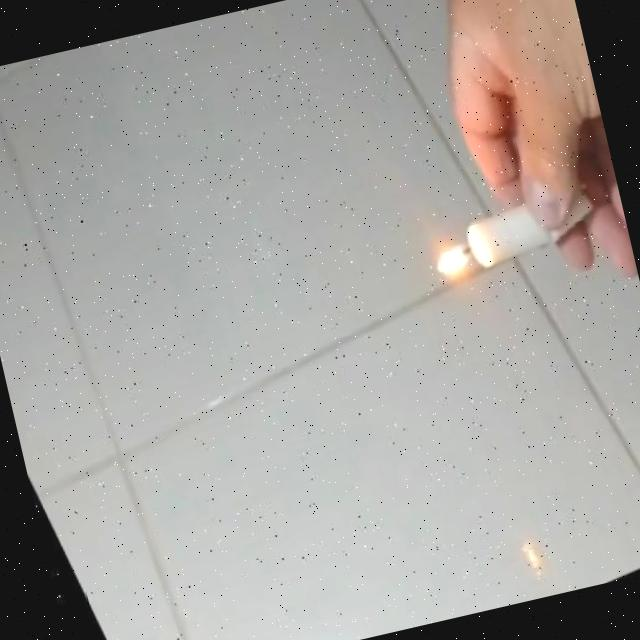fire: (420, 229, 480, 288)
